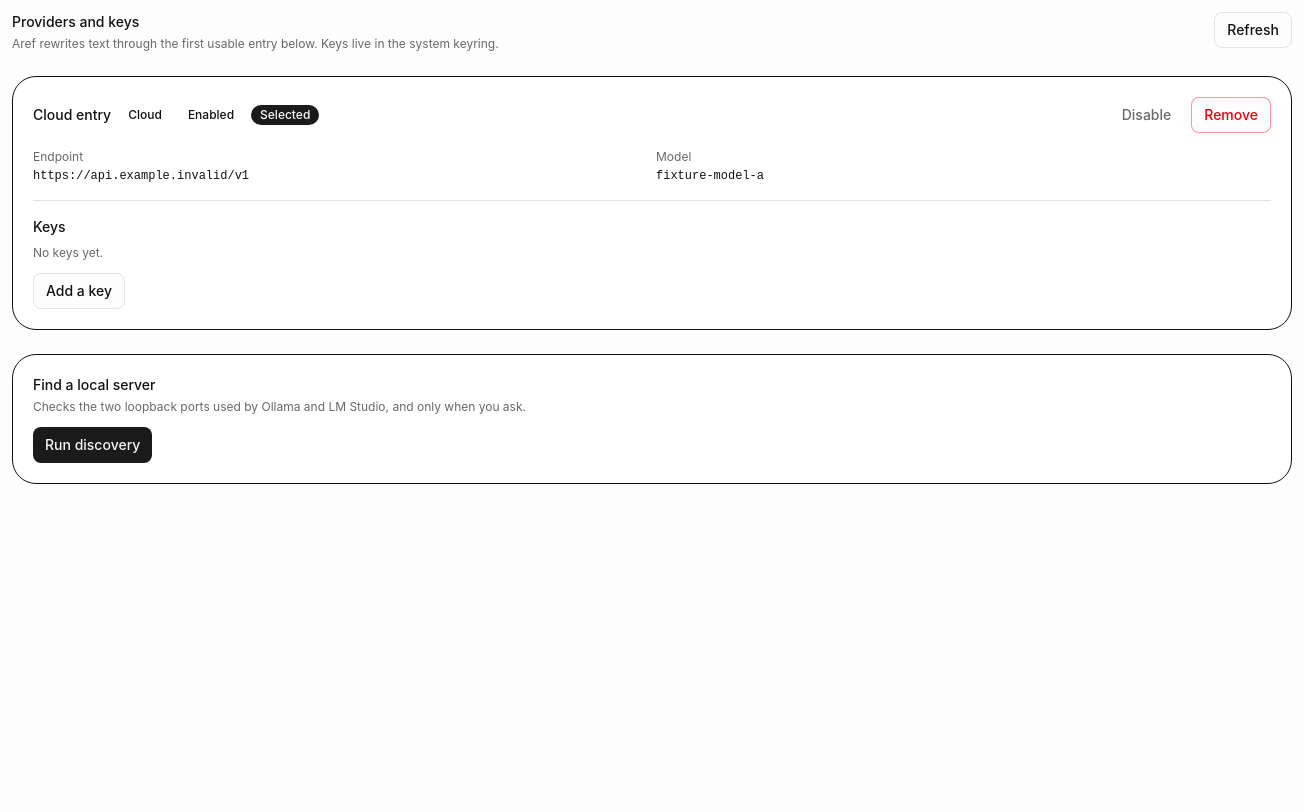
Test: ProvidersScreen in en › renders the blocking keyring state when a key save is refused
The width and height of the screenshot is (1304, 812).
Check: the number of elements with test id "provider-row" is 1, box 12,76 -> 1292,330
Click the button "Add a key" at (79, 291), box 33,273 -> 125,309
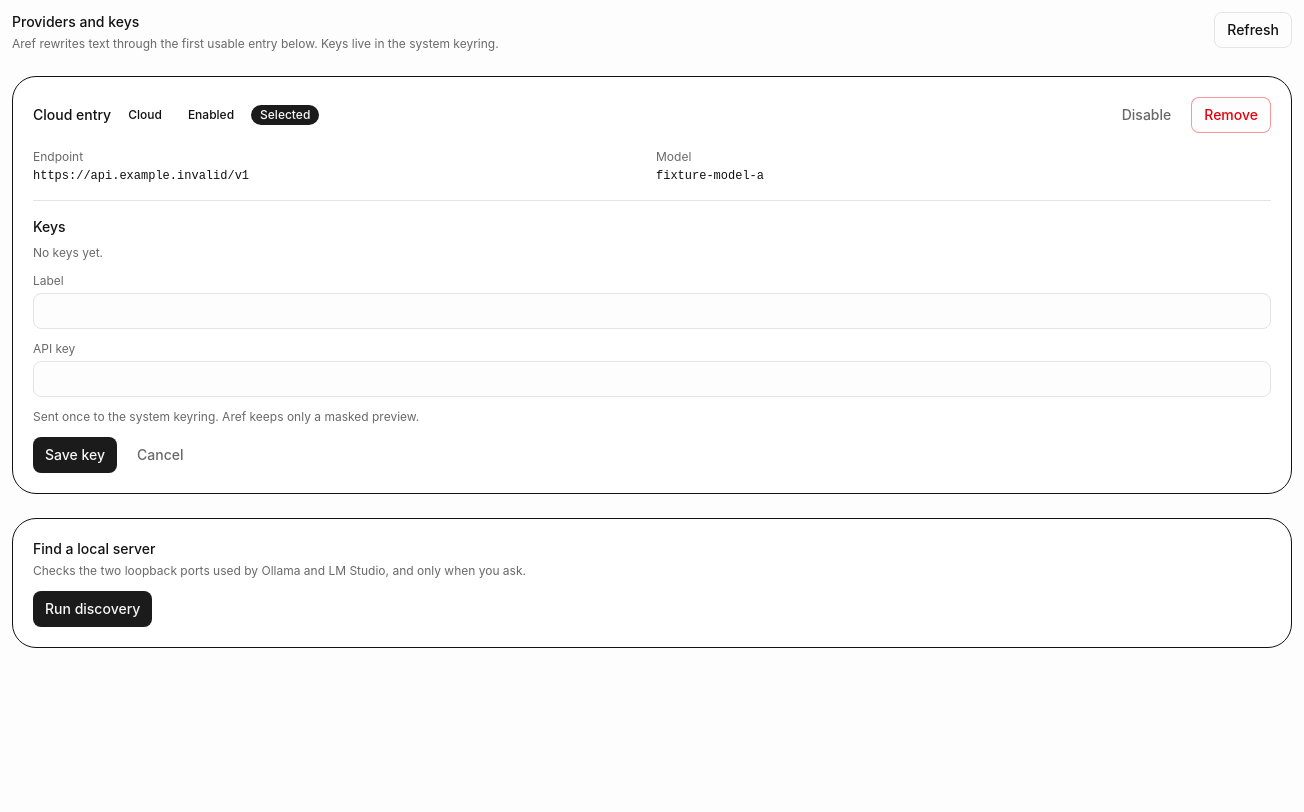
Type "Work" into the field labelled "Label" at (652, 311), box 33,293 -> 1271,329
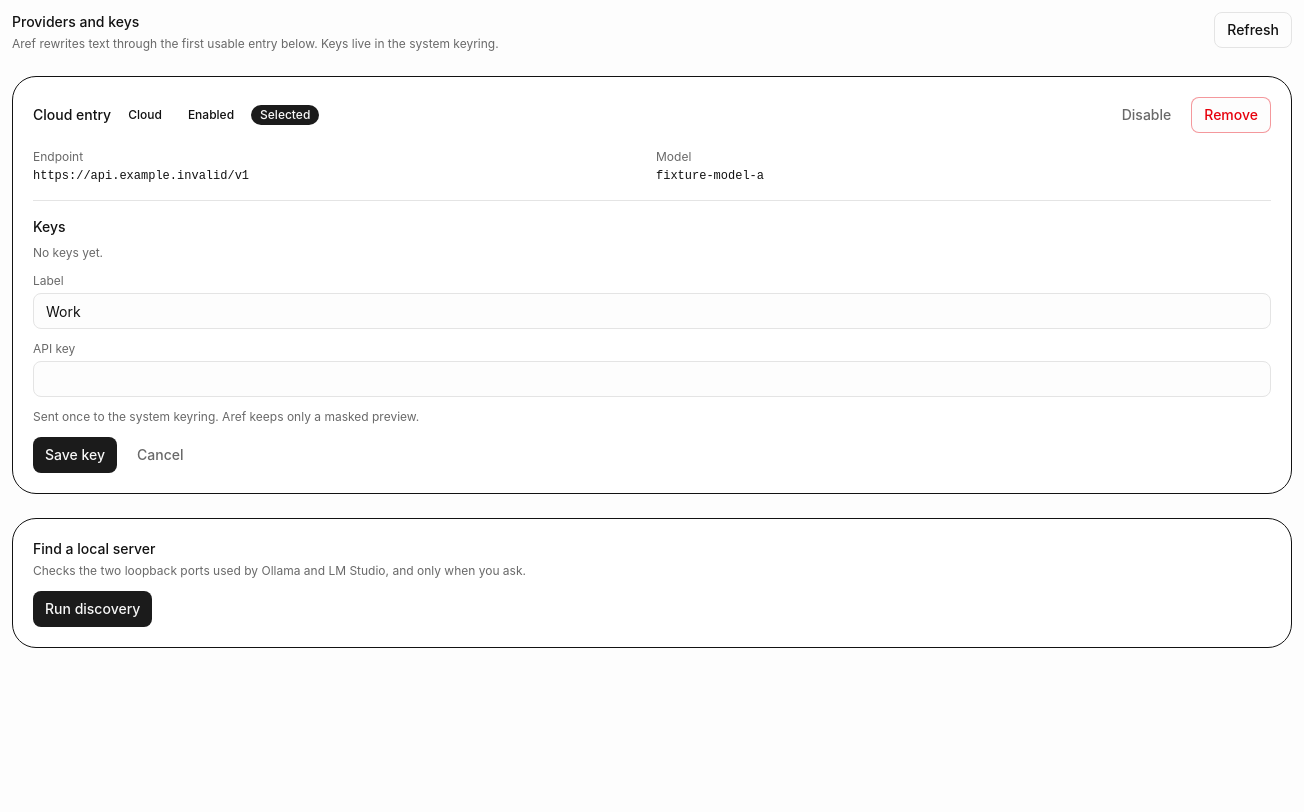
Type "fixture-secret-a" into the password field labelled "API key" at (652, 379), box 33,361 -> 1271,397
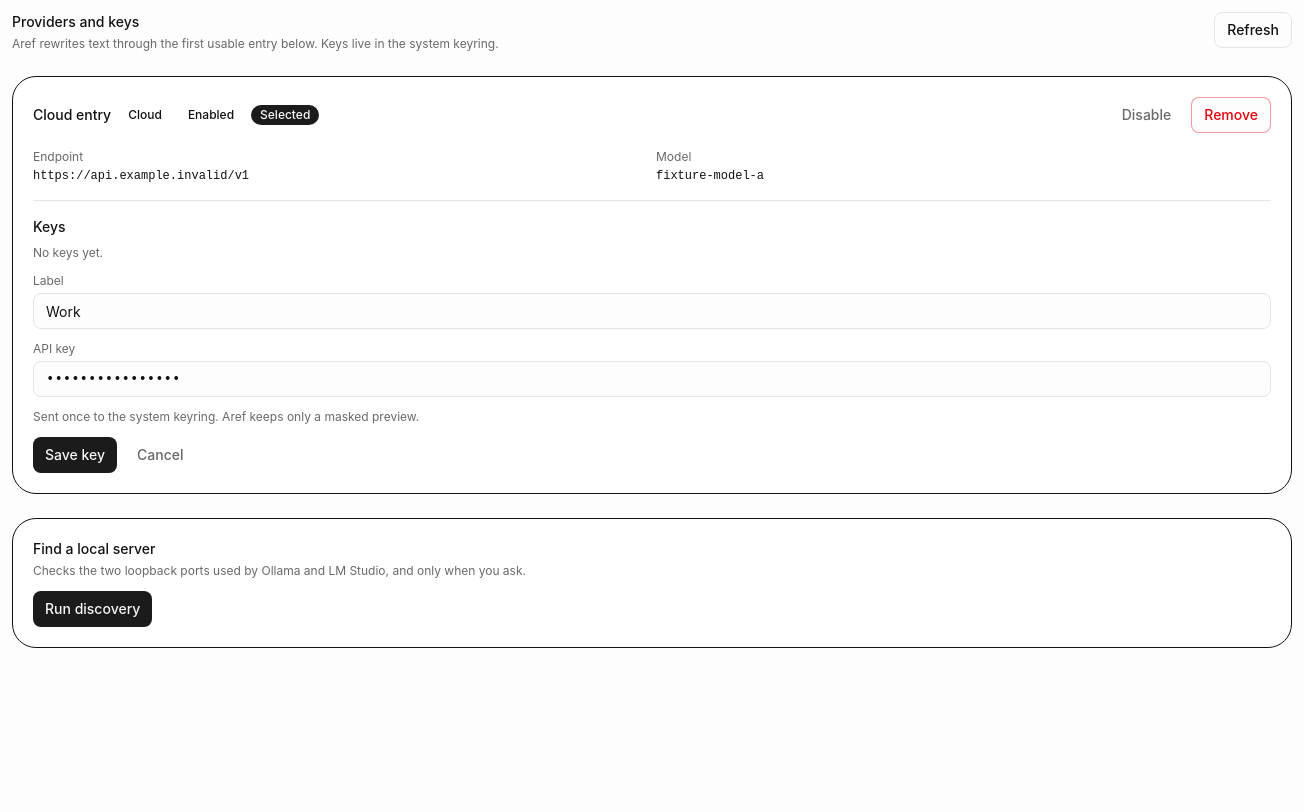
Click the button "Save key" at (75, 455), box 33,437 -> 117,473
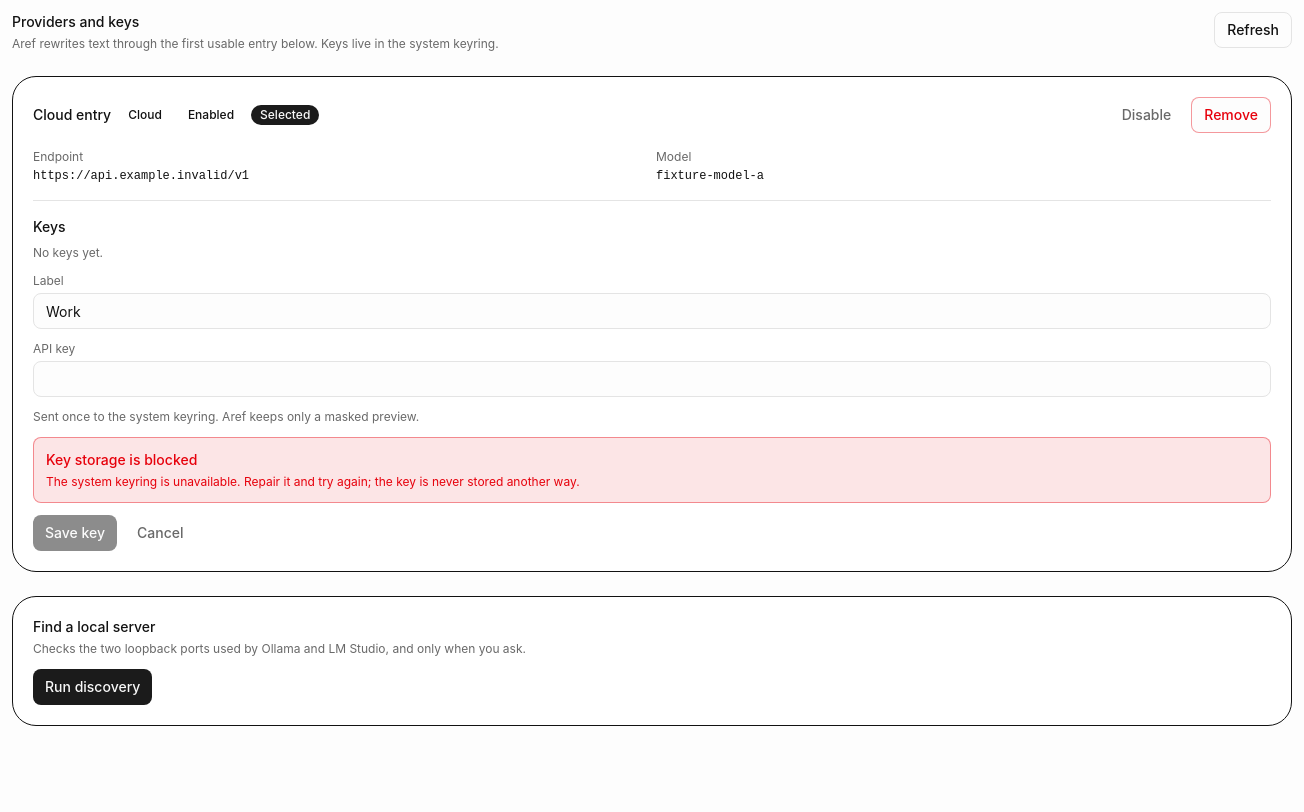
Check: the number of elements with test id "provider-row" is 1, box 12,76 -> 1292,572
Check: the message with test id "keyring-blocked" shows "The system keyring is unavailable. Repair it and try again; the key is never stored another way.", box 46,474 -> 580,489
Check: the password field labelled "API key" is empty, box 33,361 -> 1271,397
